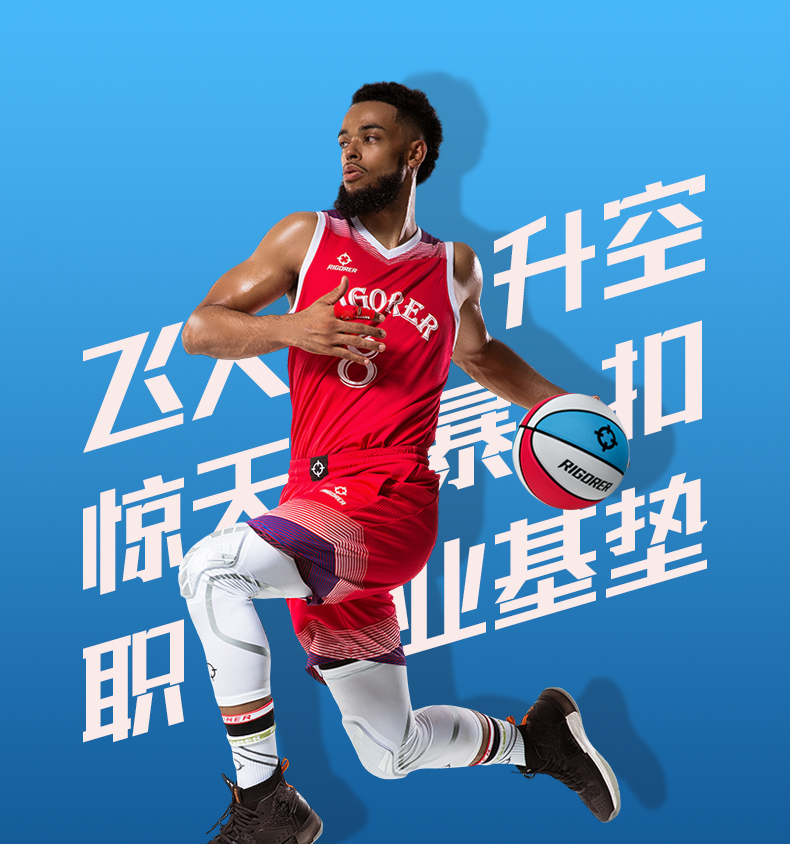ball: (512, 393, 629, 511)
